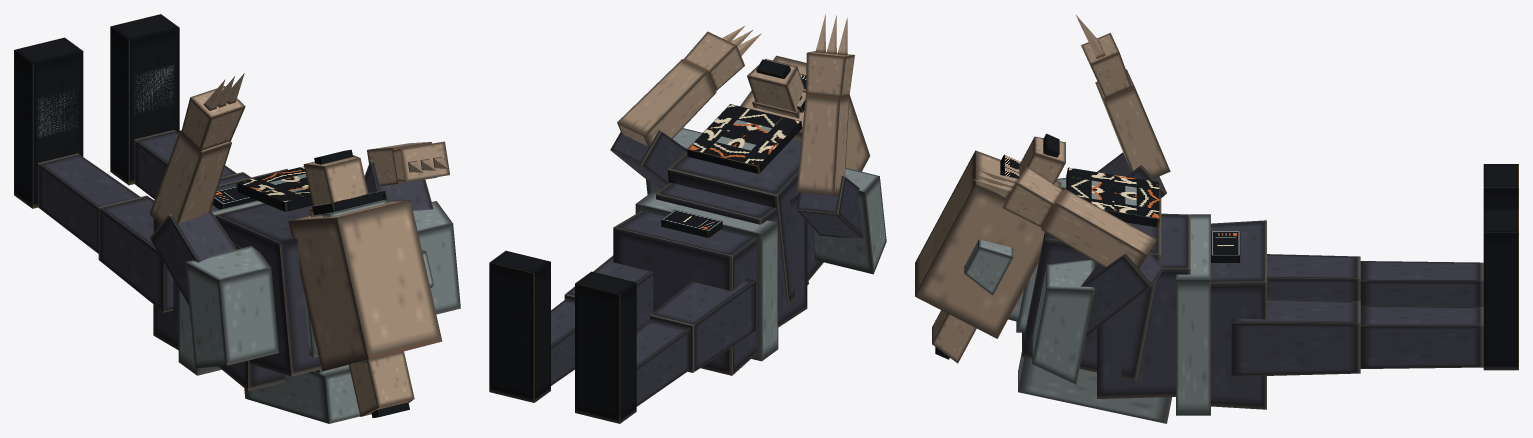
The model's file is repetiel_warning.obj.
3 views of the same model, side by side, from view 1: azimuth 30°, elevation 25°; view 2: azimuth 150°, elevation 25°; view 3: azimuth 270°, elevation 25° (orthographic). The views are drawn at different scales.
Visible parts, largest first — view 1: repetiel_warning; view 2: repetiel_warning; view 3: repetiel_warning.
Part boxes in pixels (left/top/right/bottom): repetiel_warning: left=14, top=14, right=460, bottom=423; repetiel_warning: left=489, top=14, right=886, bottom=423; repetiel_warning: left=915, top=15, right=1518, bottom=423.
Size of the model in its own units: 0.4762 by 0.653 by 1.01.
Materials: 1 (1 with a texture image).
